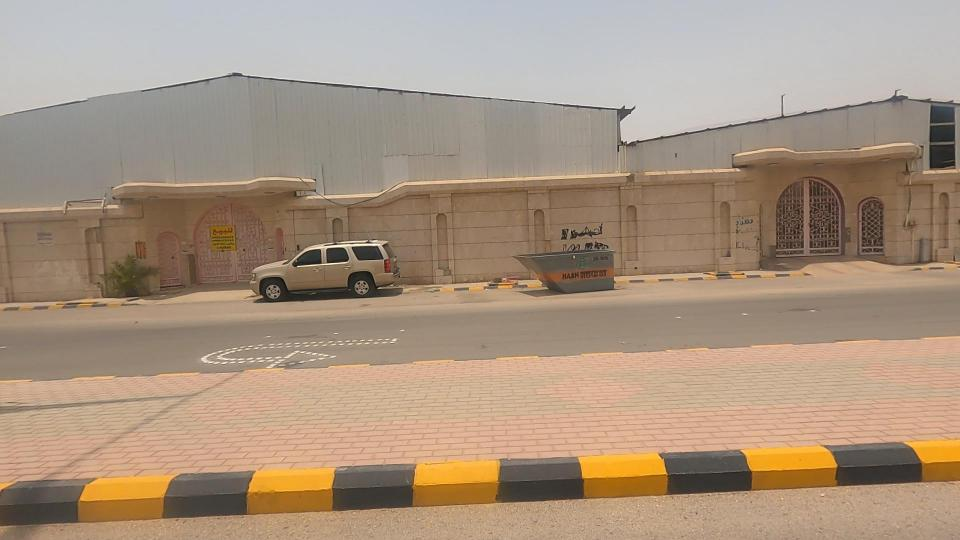GRAFFITI: (486, 186, 680, 294), (702, 195, 788, 283)
